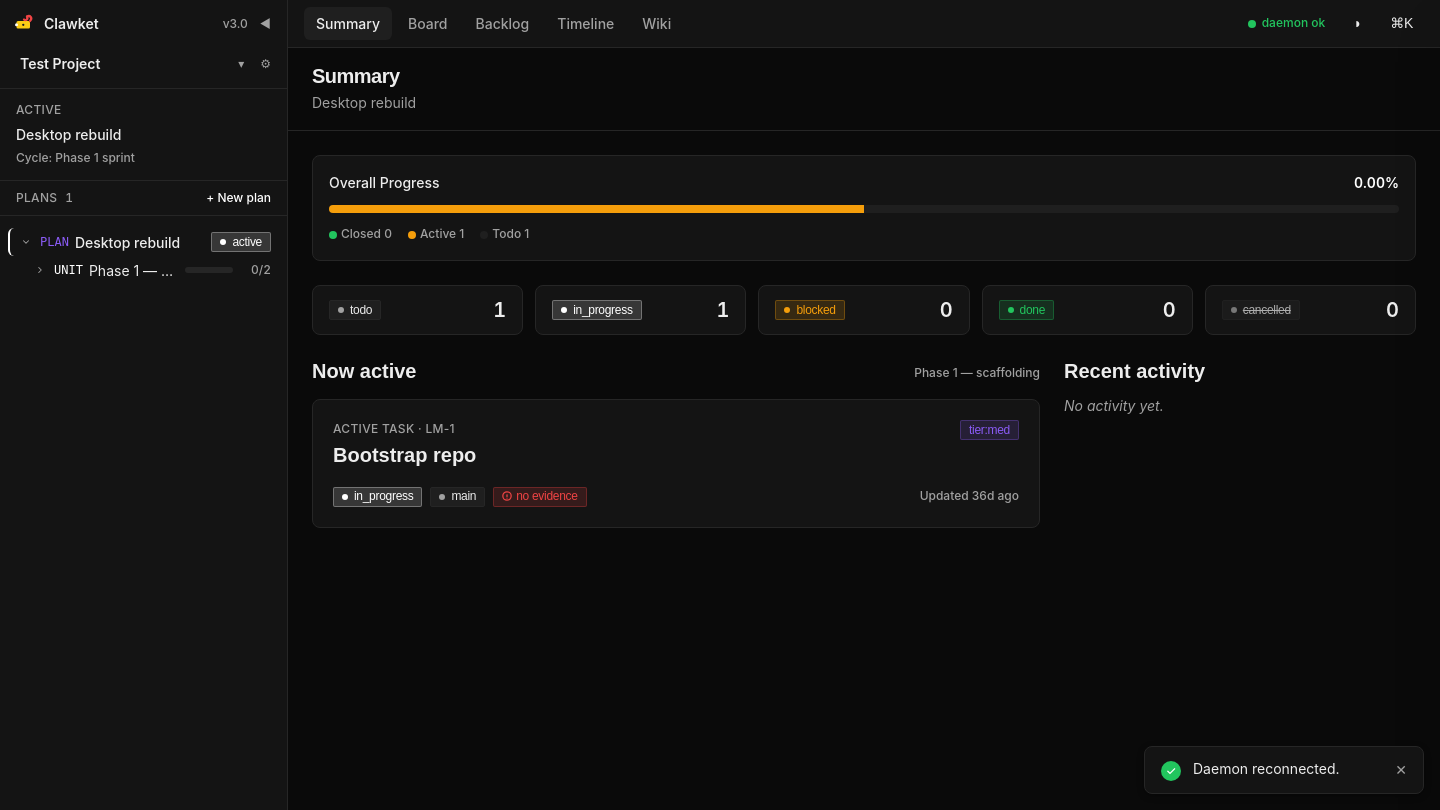
Test: Command palette → selection (B1) › clicking a View row switches the active view
Expected: the button with test id "daemon-health" is shown, [1240, 10, 1333, 37]
What coordinates should you click on to do the following:
click the button with test id "open-command-palette"
I would click on:
 (1402, 24)
Its box is [1379, 10, 1424, 38].
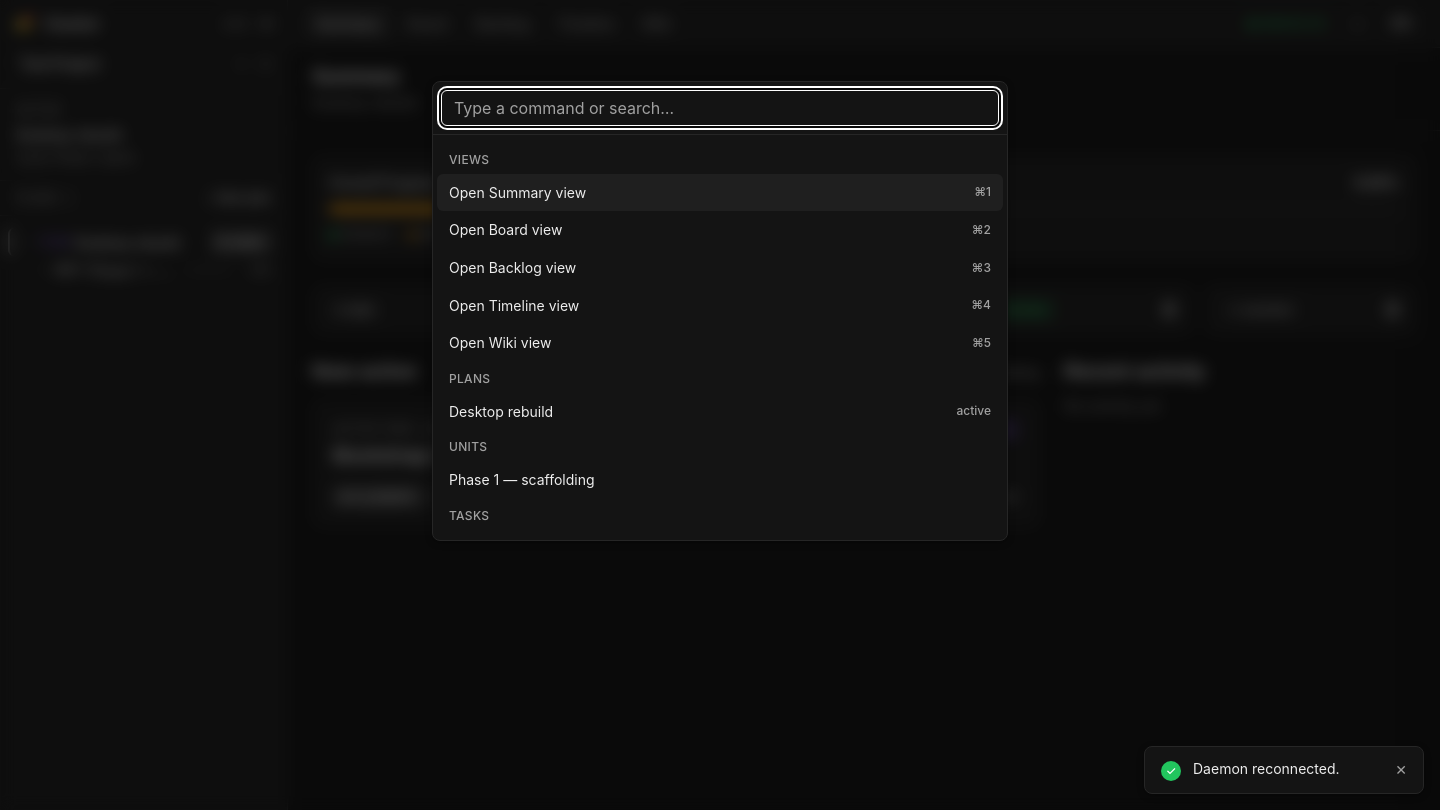
What coordinates should you click on to do the following:
click the text "Open Board view"
I would click on:
 (506, 230)
Its box is [449, 221, 562, 238].
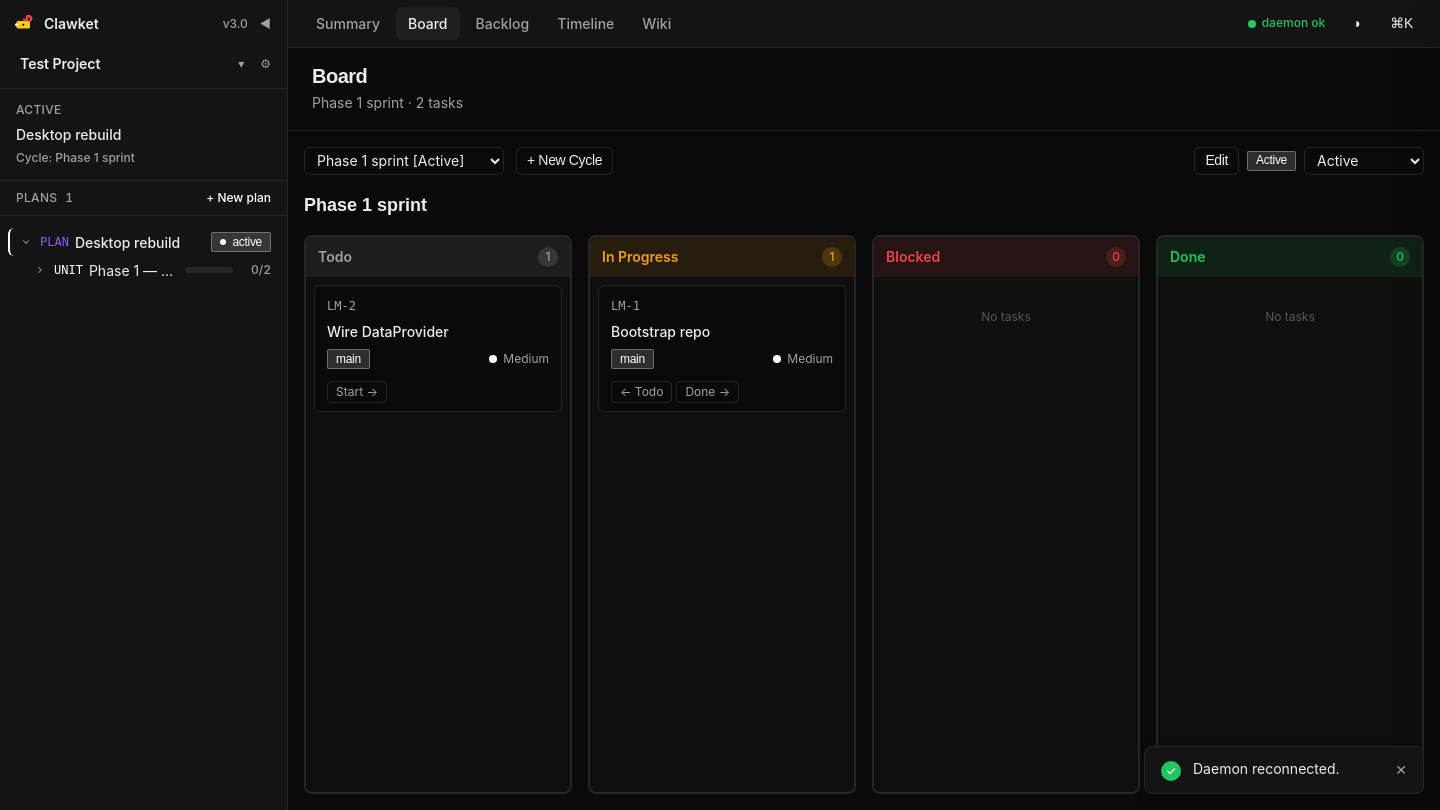
Result: the dialog is gone
Result: the element with test id "view-board" is shown
